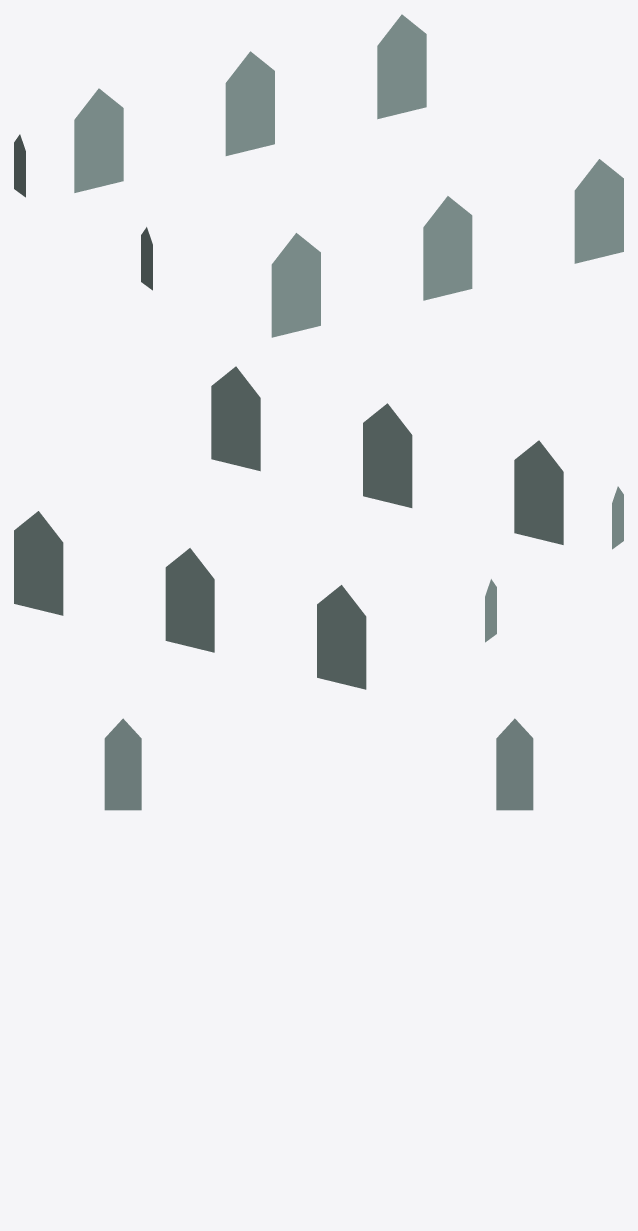
Rendered from SM_Town_Church_Glass.glb.
3 views of the same model, one above another, from view 1: azimuth 30°, elevation 25°; view 2: azimuth 150°, elevation 25°; view 3: azimuth 270°, elevation 25° (orthographic). The views are drawn at different scales.
Parts seen in each view (by area): view 1: SM_Town_Church_Glass; view 2: SM_Town_Church_Glass; view 3: SM_Town_Church_Glass.
Boxes of the visible parts, box(x1,y1,x2,y2) form: SM_Town_Church_Glass: box(14, 14, 623, 337); SM_Town_Church_Glass: box(14, 366, 623, 689); SM_Town_Church_Glass: box(104, 718, 533, 810).
Bounding box in the file's own units: 11.66 × 2.7 × 9.03.
